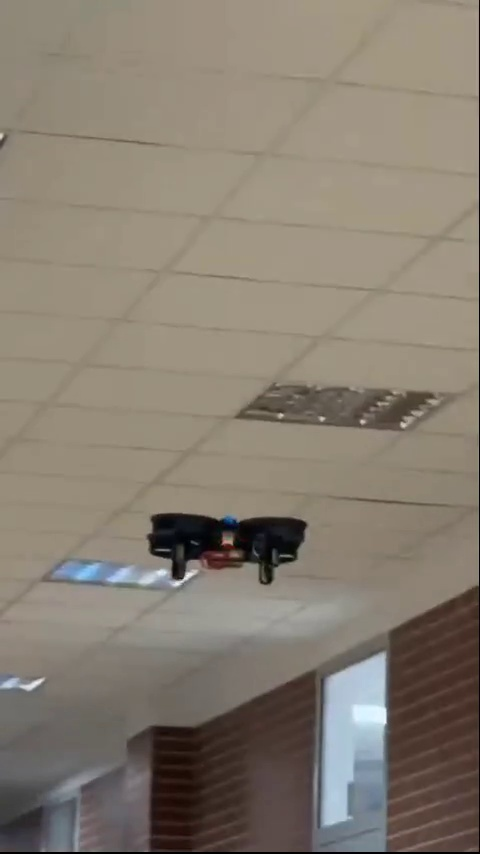drone: (150, 512, 298, 572)
